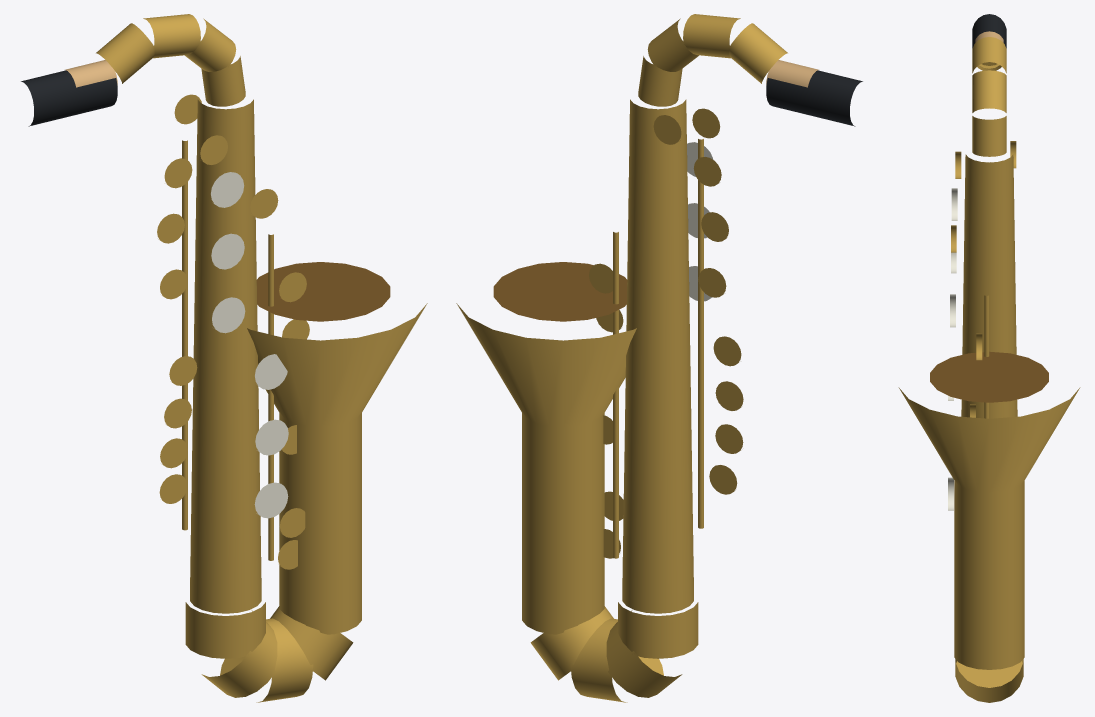
File: alto-sax.glb
3 views of the same model, side by side, from view 1: azimuth 30°, elevation 25°; view 2: azimuth 150°, elevation 25°; view 3: azimuth 270°, elevation 25° (orthographic). The views are drawn at different scales.
Visible parts, largest first — view 1: body, bell_stack, bell, bell_interior, bow_1, mouthpiece, bow_2, bow_3, bow_4, neck_4, neck_3, left_rod (+21 smaller); view 2: body, bell_stack, bell, bell_interior, bow_1, mouthpiece, bow_2, bow_3, bow_4, left_rod, neck_4, neck_3 (+13 smaller); view 3: bell_stack, body, bell, bell_interior, bow_4, neck_2, neck_1, neck_3, mouthpiece, right_rod.
Boxes of the visible parts, box(x1,y1,x2,y2) form: body: box(190, 99, 261, 613); bell_stack: box(279, 413, 361, 634); bell: box(247, 303, 427, 426); bell_interior: box(256, 262, 390, 321); bow_1: box(185, 602, 265, 658); mouthpiece: box(21, 70, 117, 126); bow_2: box(201, 610, 277, 697); bow_3: box(256, 618, 313, 702); bow_4: box(270, 606, 353, 680); neck_4: box(96, 23, 154, 83); neck_3: box(143, 14, 200, 58); left_rod: box(182, 140, 187, 530); body: box(622, 99, 693, 613); bell_stack: box(522, 413, 604, 634); bell: box(456, 303, 636, 426); bell_interior: box(493, 262, 627, 321); bow_1: box(618, 602, 698, 658); mouthpiece: box(766, 70, 862, 126); bow_2: box(606, 610, 682, 697); bow_3: box(570, 618, 627, 702); bow_4: box(530, 606, 613, 680); left_rod: box(698, 139, 703, 528); neck_4: box(729, 23, 787, 83); neck_3: box(683, 14, 740, 58); bell_stack: box(954, 480, 1024, 669); body: box(961, 154, 1017, 418); bell: box(898, 387, 1080, 492); bell_interior: box(930, 351, 1048, 402); bow_4: box(955, 661, 1023, 702); neck_2: box(972, 70, 1006, 112); neck_1: box(972, 116, 1006, 156); neck_3: box(972, 37, 1006, 73); mouthpiece: box(972, 14, 1006, 48); right_rod: box(984, 295, 989, 418).
Size of the model in its own units: 4.21 by 7.29 by 2.
